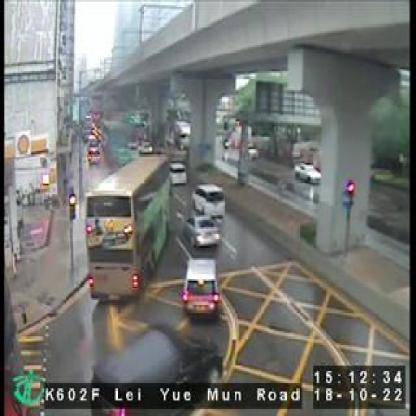Bus: (84, 155, 172, 304)
Car: (191, 180, 226, 216), (182, 215, 219, 248), (295, 161, 322, 185), (170, 162, 188, 185), (170, 161, 186, 184), (87, 144, 101, 166)
Truck: (182, 255, 221, 321)
